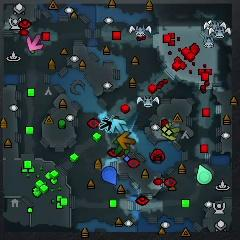p1: (101, 166, 117, 186)
p2: (197, 164, 212, 184)
x1: (26, 34, 43, 51)
x2: (161, 122, 180, 141)
x3: (110, 118, 126, 133)
x3Clone: (99, 119, 112, 130)
x4: (115, 139, 130, 154)
x5: (117, 131, 135, 149)
